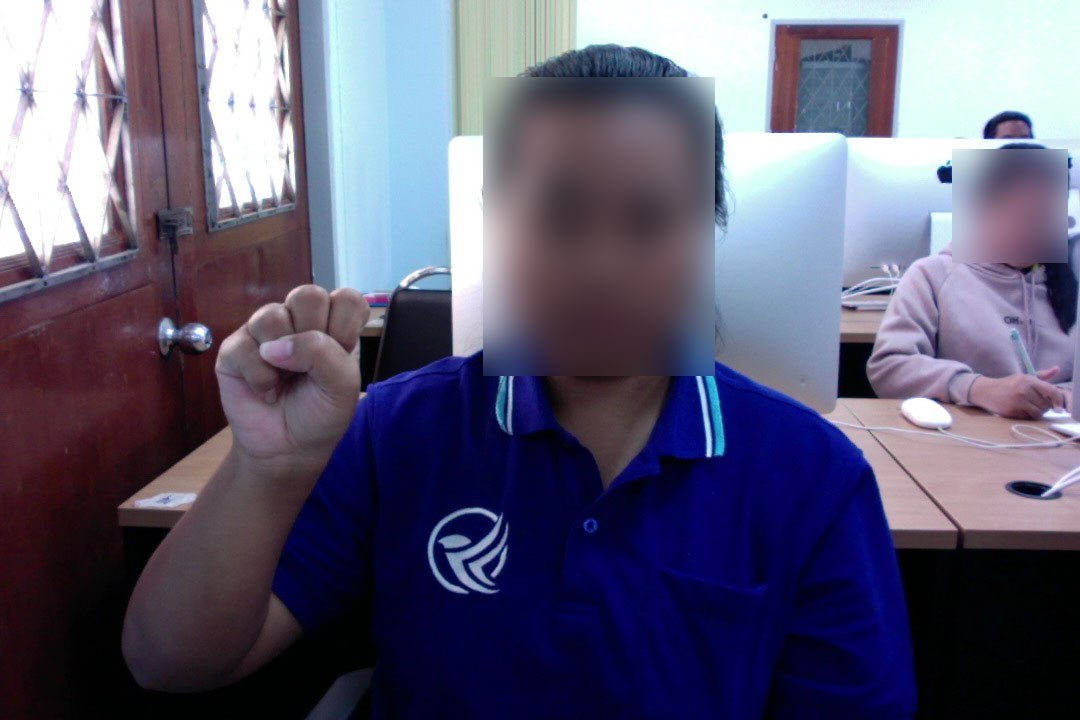sor: (210, 279, 374, 471)
